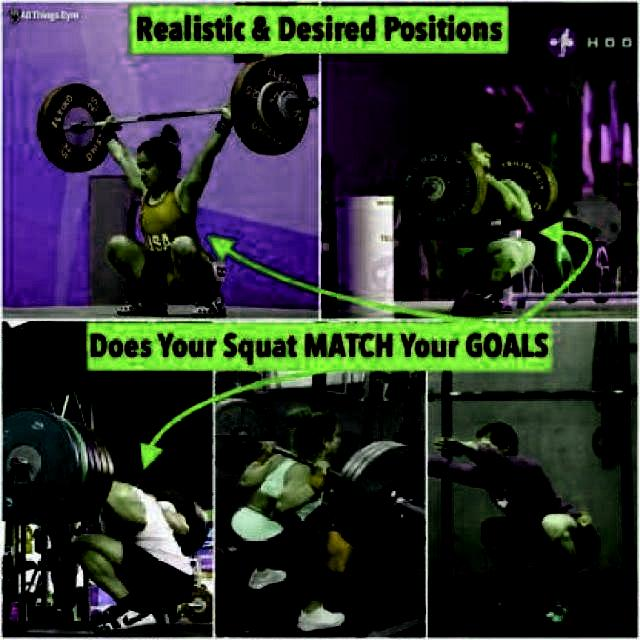barbell: (6, 405, 86, 529), (236, 59, 318, 158), (395, 140, 480, 232)
